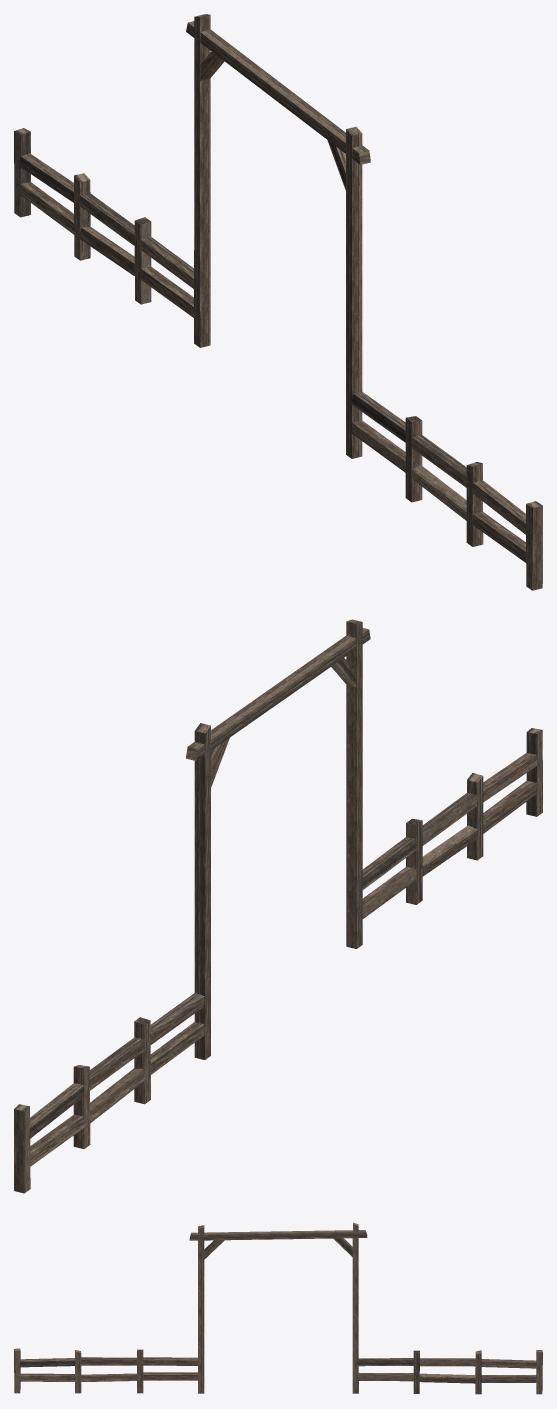
File: fence_and_gate_wood.glb
3 views of the same model, one above another, from view 1: azimuth 30°, elevation 25°; view 2: azimuth 150°, elevation 25°; view 3: azimuth 270°, elevation 25° (orthographic). The views are drawn at different scales.
Visible parts, largest first — view 1: Object_2; view 2: Object_2; view 3: Object_2.
Part boxes in pixels (box(x1,y1,x2,y2)): Object_2: box(14, 14, 542, 590); Object_2: box(14, 619, 542, 1193); Object_2: box(14, 1222, 542, 1394).
Size of the model in its own units: 0.2325 by 6.04 by 17.11.
1 material, 1 textured.
